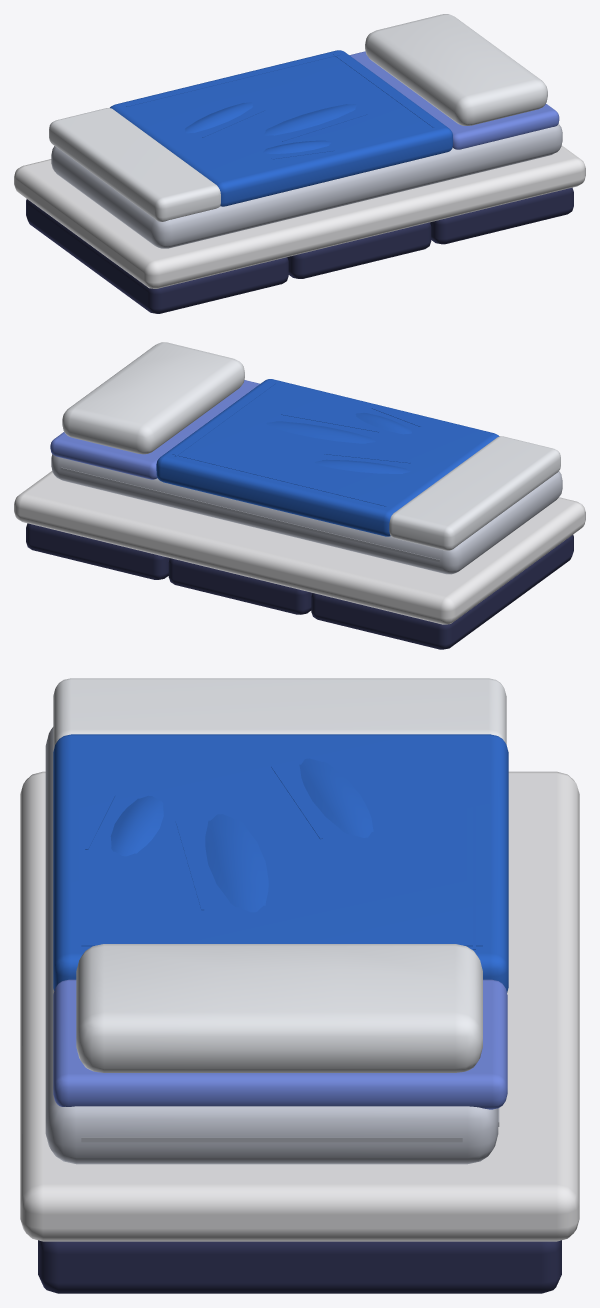
Rendered from prop.props_quarters.bed_single.glb.
3 views of the same model, one above another, from view 1: azimuth 30°, elevation 25°; view 2: azimuth 150°, elevation 25°; view 3: azimuth 270°, elevation 25° (orthographic). The views are drawn at different scales.
Visible parts, largest first — view 1: prop.props_quarters.bed_single; view 2: prop.props_quarters.bed_single; view 3: prop.props_quarters.bed_single.
Part boxes in pixels (bbox=[...]): prop.props_quarters.bed_single: bbox=[14, 14, 585, 313]; prop.props_quarters.bed_single: bbox=[14, 342, 585, 649]; prop.props_quarters.bed_single: bbox=[20, 678, 579, 1293].
Bounding box in the file's own units: 2 × 0.5922 × 1.1.
